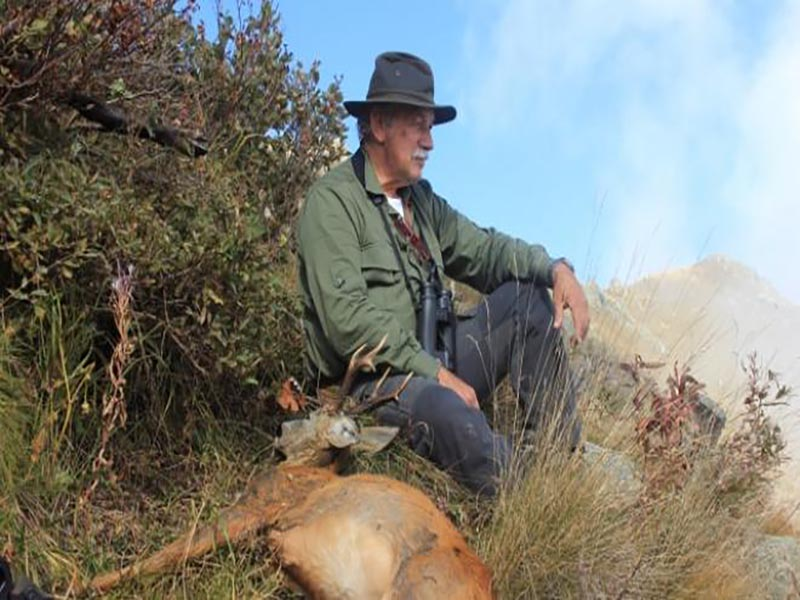cacciatore: (300, 51, 612, 491)
cervo: (66, 340, 486, 592)
